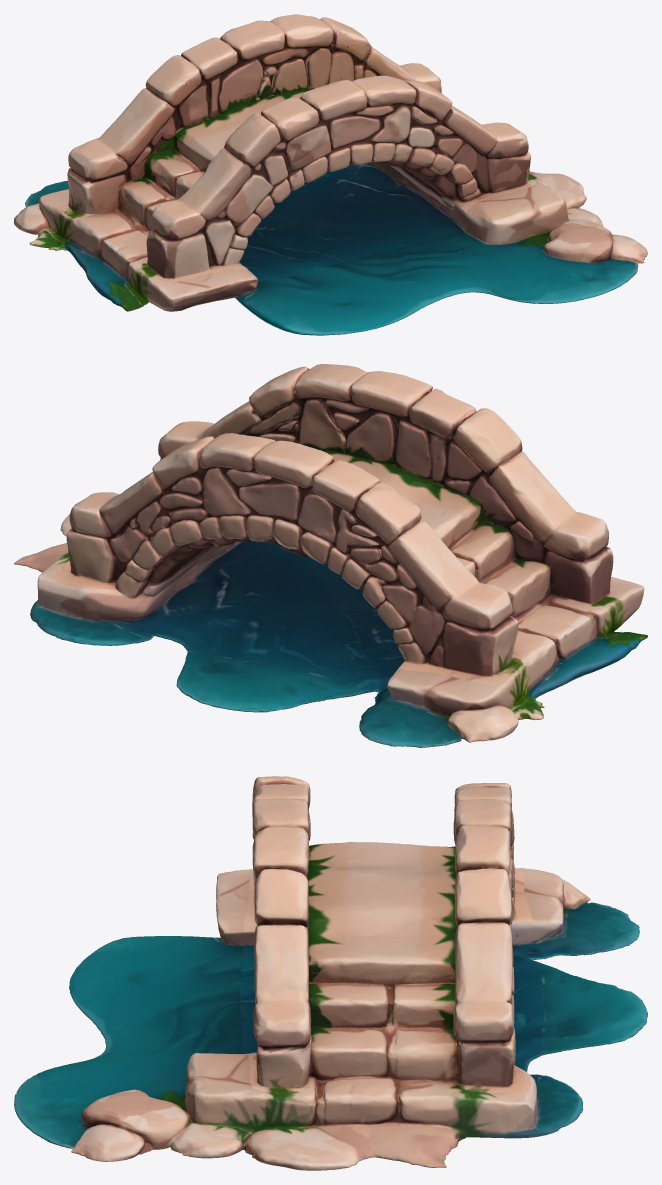
File: Meshy_AI_Stone_Bridge_1016111118_texture.fbx
3 renders of one model, top to bottom at view 1: azimuth 30°, elevation 25°; view 2: azimuth 150°, elevation 25°; view 3: azimuth 270°, elevation 25°, orthographic. The views are drawn at different scales.
Visible parts, largest first — view 1: Mesh_0; view 2: Mesh_0; view 3: Mesh_0.
Boxes of the visible parts, left/top/right/bottom form: Mesh_0: left=14, top=14, right=647, bottom=335; Mesh_0: left=14, top=364, right=647, bottom=747; Mesh_0: left=14, top=776, right=647, bottom=1170.
Bounding box in the file's own units: 190 × 64.52 × 178.
Materials: 1 (1 with a texture image).
